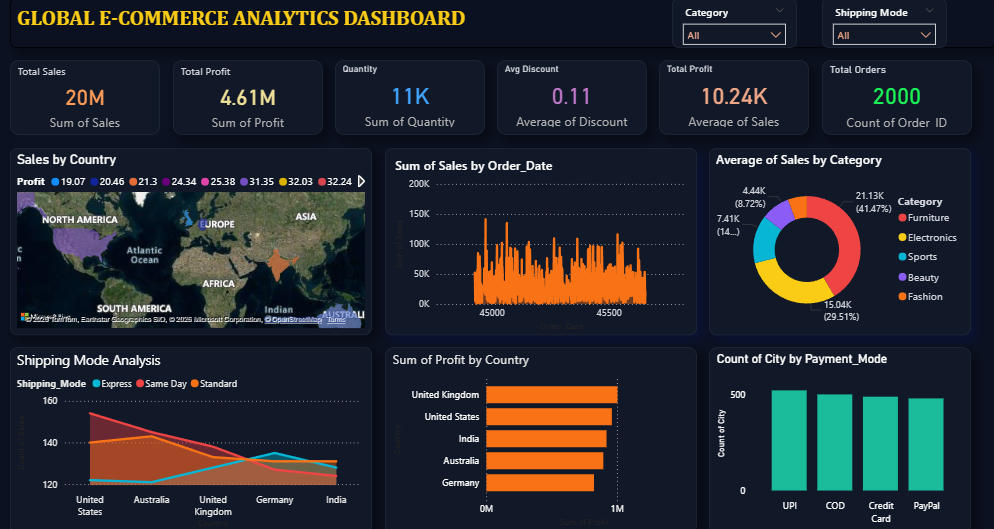

The dashboard page shown, as its layout file describes it:
{"tool":"powerbi","page":{"name":"Page 1","canvas":[1280,720],"ordinal":0},"visuals":[{"type":"textbox","box":[16,0,1264,64],"z":0},{"type":"card","title":"Total Sales","fields":{"Values":["Sum(Sales_Data.Sales)"]},"box":[16,80,192,96],"z":1000},{"type":"card","title":"Total Profit","fields":{"Values":["Sum(Sales_Data.Profit)"]},"box":[224,80,192,96],"z":2000},{"type":"card","title":"Total Profit","fields":{"Values":["Sum(Sales_Data.Profit)"]},"box":[848,80,192,96],"z":3000},{"type":"card","title":"Avg Discount","fields":{"Values":["Avg(Sales_Data.Discount)"]},"box":[640,80,192,96],"z":4000},{"type":"card","title":"Total Orders","fields":{"Values":["CountNonNull(Sales_Data.Order_ID)"]},"box":[1056,80,192,96],"z":5000},{"type":"card","title":"Quantity","fields":{"Values":["Sum(Sales_Data.Quantity)"]},"box":[432,80,192,96],"z":6000},{"type":"lineChart","fields":{"Category":["Sales_Data.Order_Date"],"Y":["Sum(Sales_Data.Sales)"]},"box":[496,192,400,240],"z":7000},{"type":"donutChart","fields":{"Category":["Sales_Data.Category"],"Y":["Avg(Sales_Data.Sales)"]},"box":[912,192,336,240],"z":8000},{"type":"areaChart","title":"Shipping Mode Analysis","fields":{"Y":["CountNonNull(Sales_Data.Sales)"],"Category":["Sales_Data.Country"],"Series":["Sales_Data.Shipping_Mode"]},"box":[16,448,464,240],"z":9000},{"type":"barChart","fields":{"Category":["Sales_Data.Country"],"Y":["Sum(Sales_Data.Profit)"]},"box":[496,448,400,240],"z":10000},{"type":"slicer","fields":{"Values":["Sales_Data.Category"]},"box":[864,0,160,64],"z":11000},{"type":"slicer","fields":{"Values":["Sales_Data.Shipping_Mode"]},"box":[1056,0,160,64],"z":12000},{"type":"lineStackedColumnComboChart","fields":{"Category":["Sales_Data.Payment_Mode"],"Y":["CountNonNull(Sales_Data.City)"]},"box":[912,448,336,240],"z":13000},{"type":"filledMap","title":"Sales by Country","fields":{"Category":["Sales_Data.Country"],"Series":["Sales_Data.Profit"]},"box":[16,192,464,240],"z":14000}]}

Visuals, with their boxes on the page's 1280x720 design canvas (x1, y1, x2, y2). These are canvas units, not pixel positions in the 994x529 screenshot, which may show the page scaled, cropped or inside an application window:
textbox: 16/0/1280/64
"Total Sales" card: 16/80/208/176
"Total Profit" card: 224/80/416/176
"Total Profit" card: 848/80/1040/176
"Avg Discount" card: 640/80/832/176
"Total Orders" card: 1056/80/1248/176
"Quantity" card: 432/80/624/176
lineChart - Sales_Data.Order_Date x Sum(Sales_Data.Sales): 496/192/896/432
donutChart - Sales_Data.Category x Avg(Sales_Data.Sales): 912/192/1248/432
"Shipping Mode Analysis" areaChart: 16/448/480/688
barChart - Sales_Data.Country x Sum(Sales_Data.Profit): 496/448/896/688
slicer - Sales_Data.Category: 864/0/1024/64
slicer - Sales_Data.Shipping_Mode: 1056/0/1216/64
lineStackedColumnComboChart - Sales_Data.Payment_Mode x CountNonNull(Sales_Data.City): 912/448/1248/688
"Sales by Country" filledMap: 16/192/480/432
